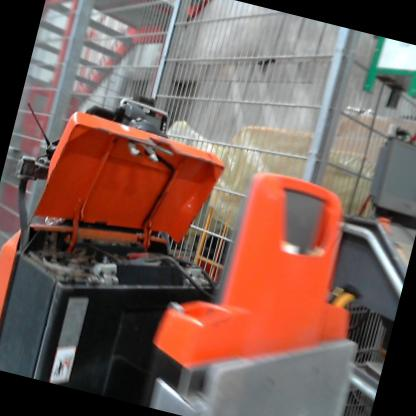pallet_truck: (0, 55, 414, 416)
